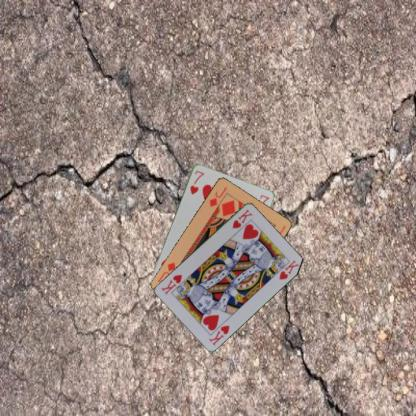7h: (187, 168, 205, 195)
Jd: (207, 184, 228, 208)
Kh: (229, 206, 254, 230), (206, 322, 231, 346)
